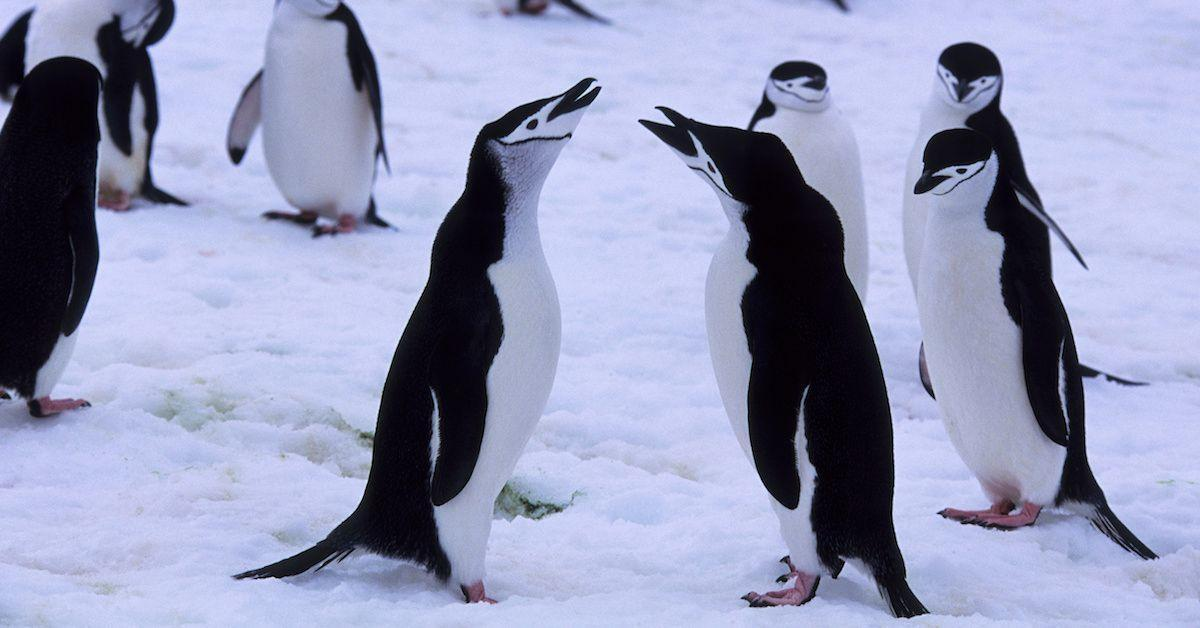Penguin: (237, 77, 600, 602), (642, 108, 925, 617), (914, 129, 1155, 557), (0, 1, 185, 210), (227, 0, 388, 235), (0, 56, 100, 415), (902, 42, 1042, 289), (748, 61, 869, 298)
